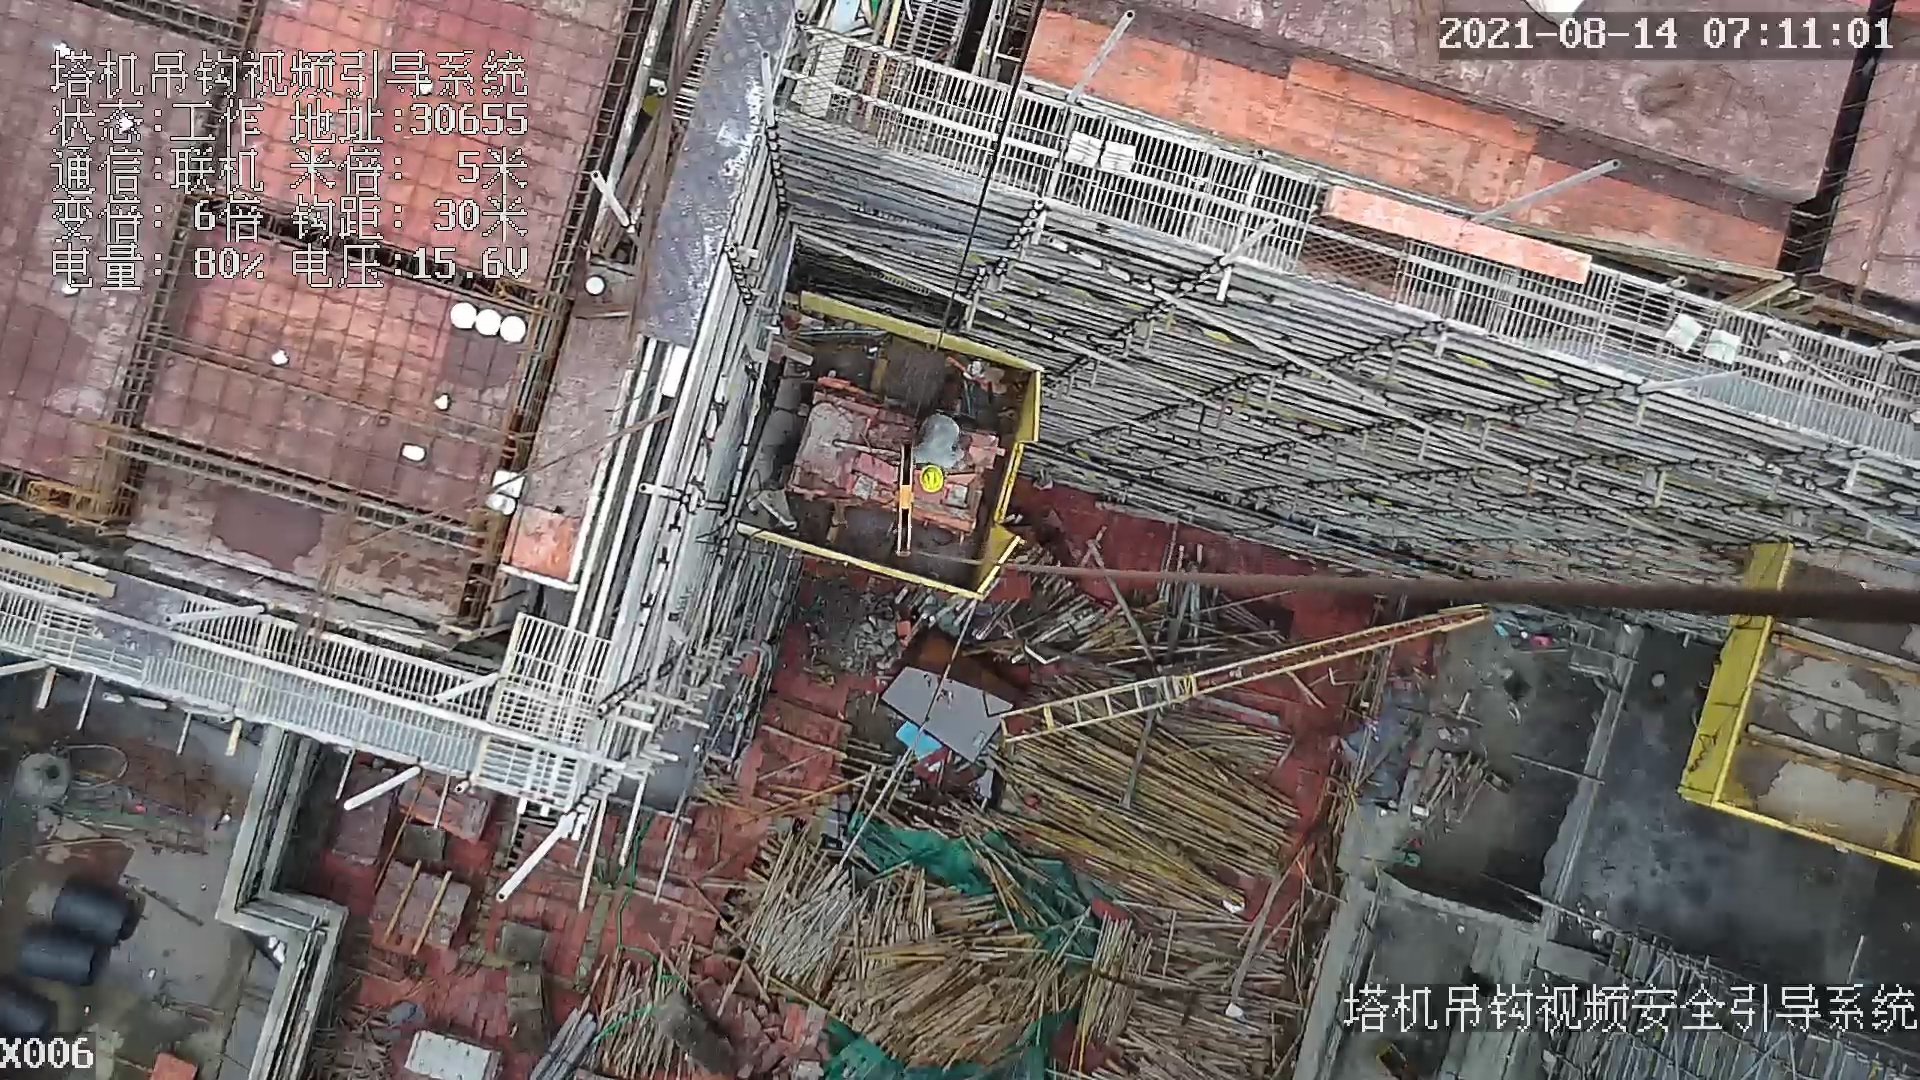helmet: (919, 464, 944, 495)
hook: (882, 440, 922, 556)
person: (901, 415, 965, 497)
